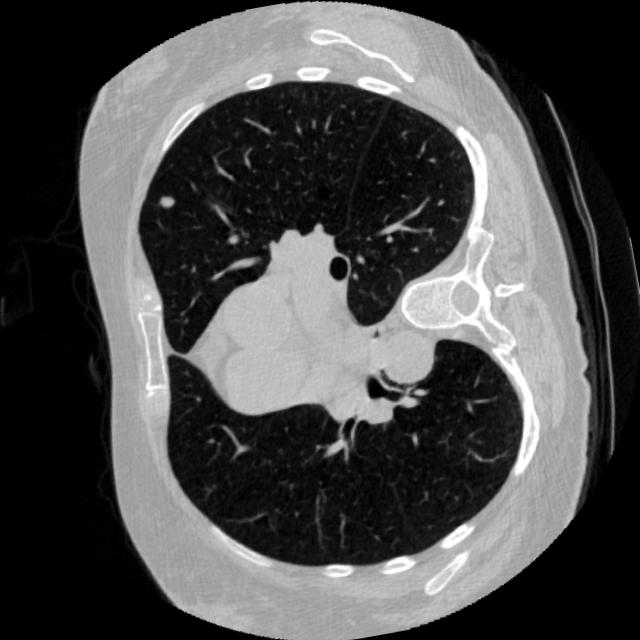nodule: (150, 183, 182, 215)
